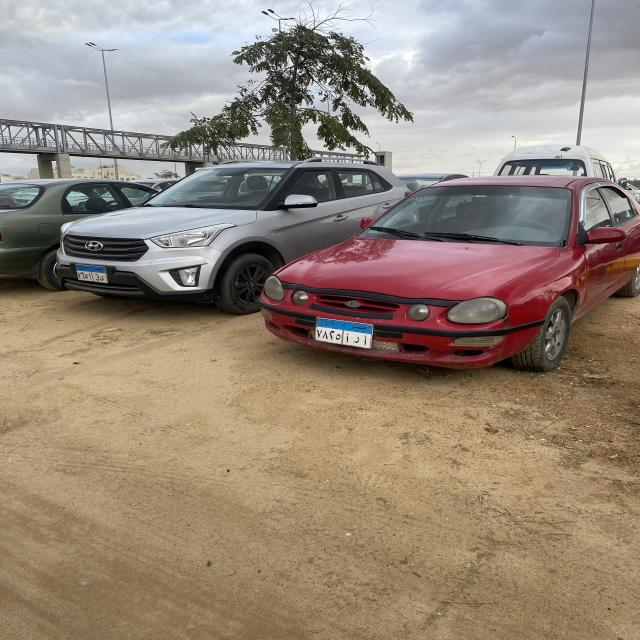License Plate: (313, 317, 374, 349), (75, 264, 108, 284)
